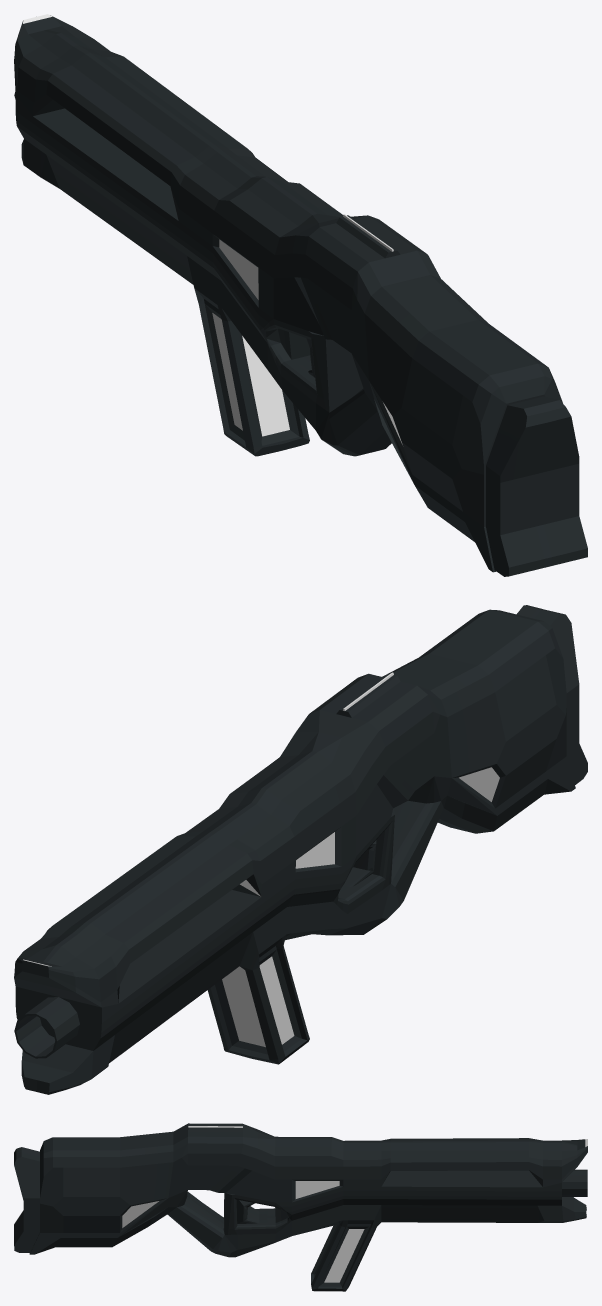
Rendered from kar_mk_1.fbx.
3 views of the same model, one above another, from view 1: azimuth 30°, elevation 25°; view 2: azimuth 150°, elevation 25°; view 3: azimuth 270°, elevation 25° (orthographic). The views are drawn at different scales.
Visible parts, largest first — view 1: Kar_mk_1; view 2: Kar_mk_1; view 3: Kar_mk_1.
Boxes of the visible parts, left/top/right/bottom form: Kar_mk_1: left=14, top=14, right=587, bottom=576; Kar_mk_1: left=14, top=605, right=587, bottom=1094; Kar_mk_1: left=14, top=1123, right=587, bottom=1291.
Bounding box in the file's own units: 11.84 × 30.93 × 101.
